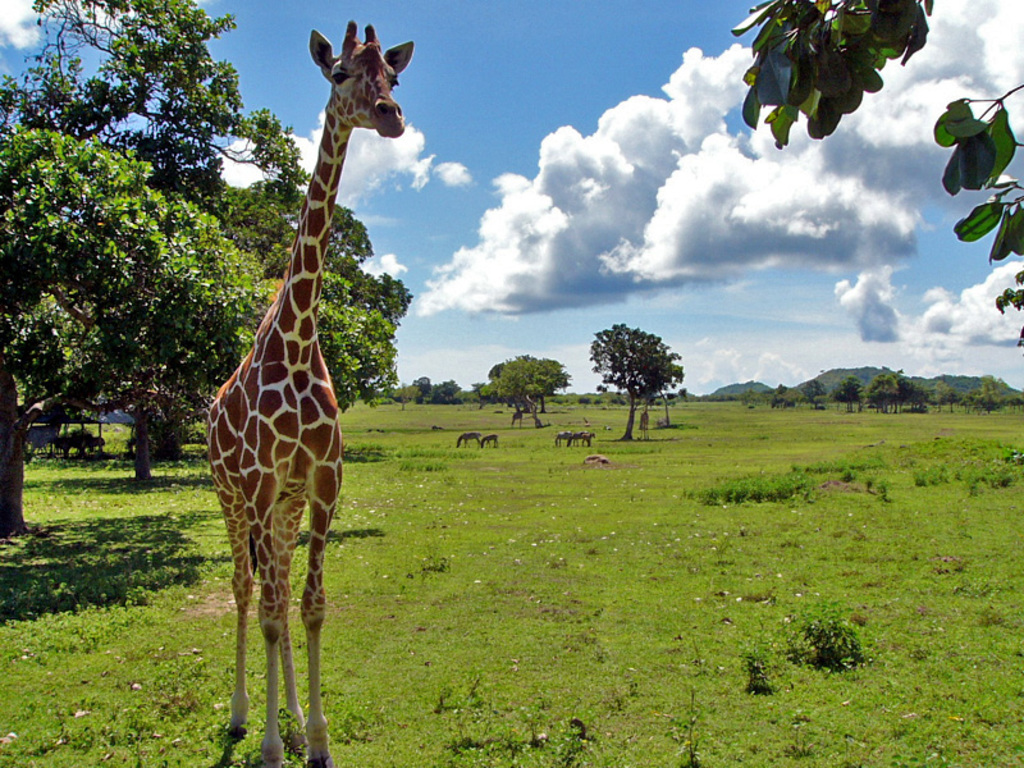Tree: (0, 0, 1024, 534)
